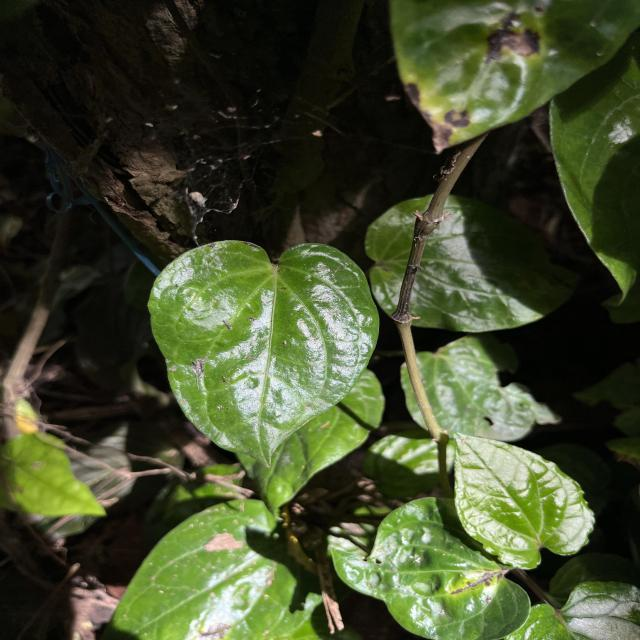Piper betle: (145, 236, 383, 471)
